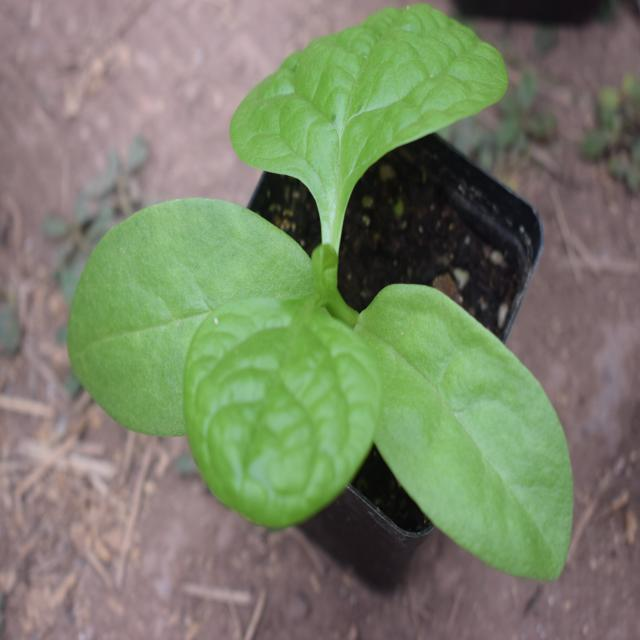Ceylon spinach: (85, 42, 585, 596)
